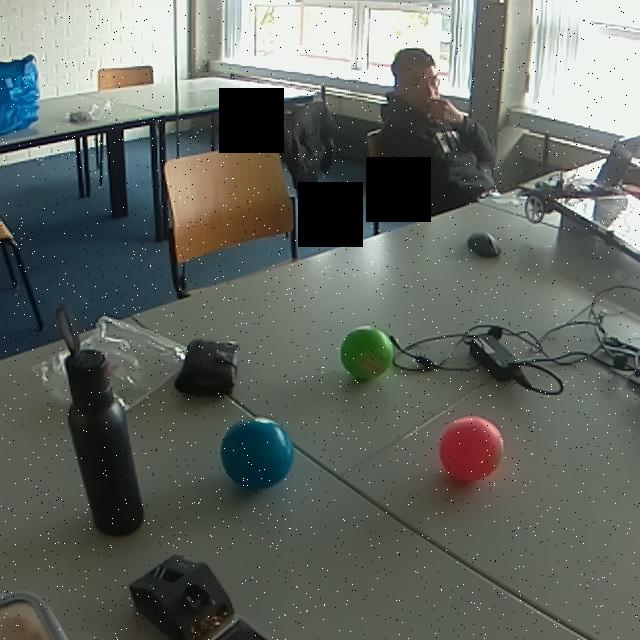ball: (218, 414, 296, 493), (438, 412, 506, 488), (339, 323, 396, 384)
